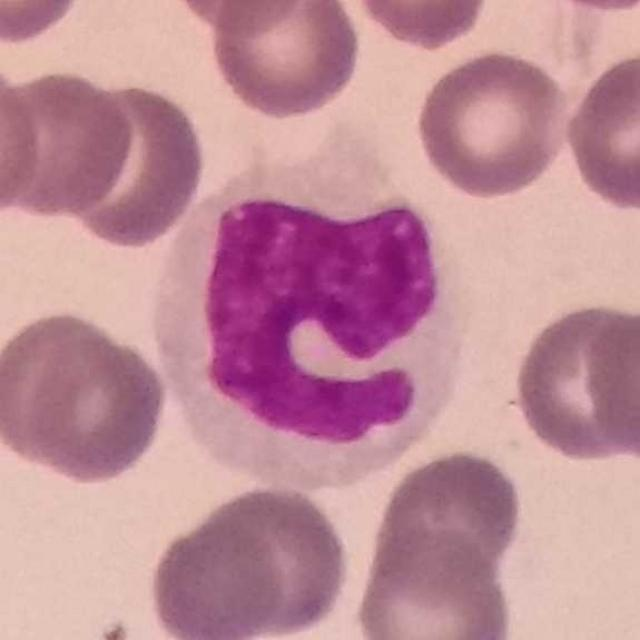Monocyte: (146, 153, 472, 485)
RBC: (154, 481, 356, 640), (1, 305, 174, 487), (61, 79, 210, 252), (411, 46, 574, 202), (366, 445, 528, 588), (508, 297, 638, 468), (0, 64, 140, 222), (206, 0, 365, 121), (350, 525, 518, 639), (560, 47, 640, 215), (579, 298, 640, 466), (0, 53, 46, 224), (346, 0, 492, 52), (161, 0, 316, 31), (0, 0, 89, 48), (530, 0, 639, 14)
